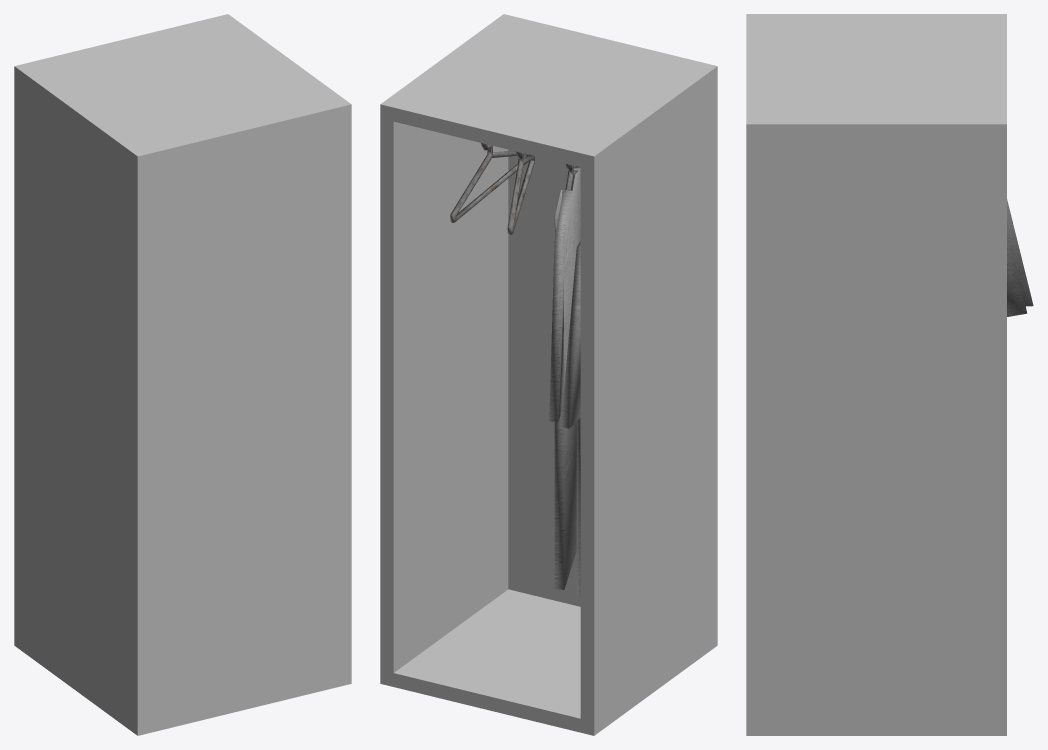
The model's file is Costume rack.fbx.
The picture shows the model from 3 angles, left to right: view 1: azimuth 30°, elevation 25°; view 2: azimuth 150°, elevation 25°; view 3: azimuth 270°, elevation 25°; orthographic projection. The views are drawn at different scales.
Visible parts, largest first — view 1: 立方体; view 2: 立方体, 平面.001, 円; view 3: 立方体, 平面.001.
Boxes of the visible parts, x1,y1,x2,y2 form: 立方体: (14,14,351,735); 立方体: (380,14,717,735); 平面.001: (549,166,580,596); 円: (450,143,577,234); 立方体: (746,14,1006,735); 平面.001: (1007,199,1033,316).
Bounding box in the file's own units: 170 × 439 × 187.
